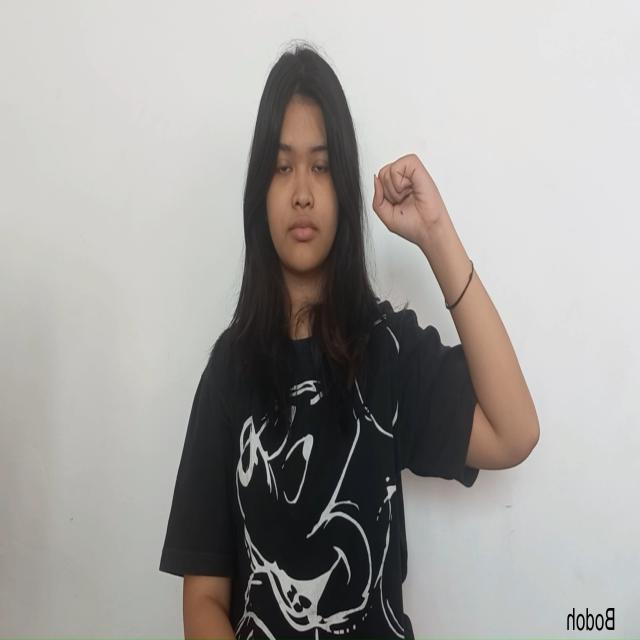Bodoh -BISINDO-: (371, 148, 442, 250)
